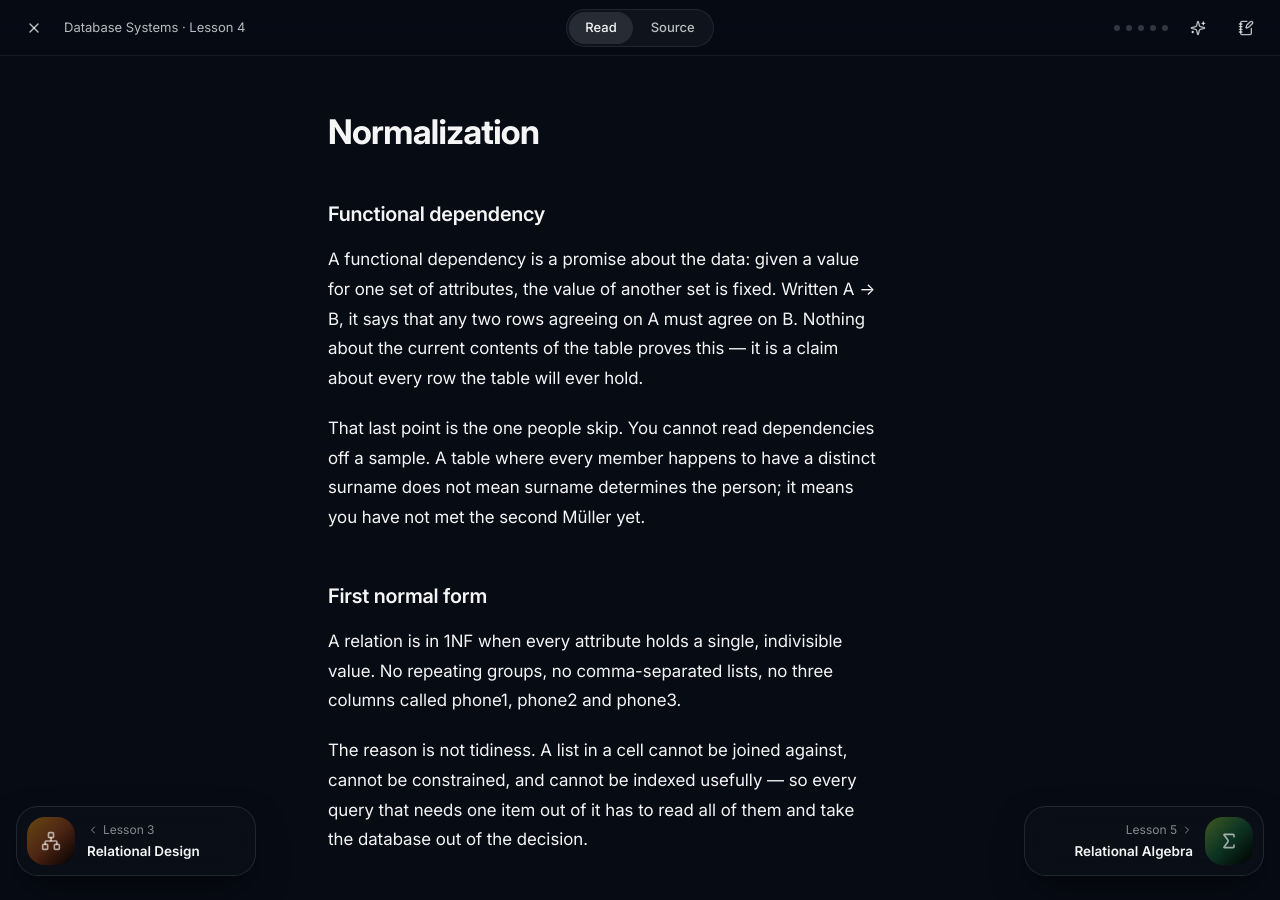
it: a Lesson with both views can be read either way › turns the page from the screen that owns the number
Check: the header is shown, box [0, 0, 1279, 56]
Click the tab "Source".
click(673, 28)  # box [635, 12, 711, 44]
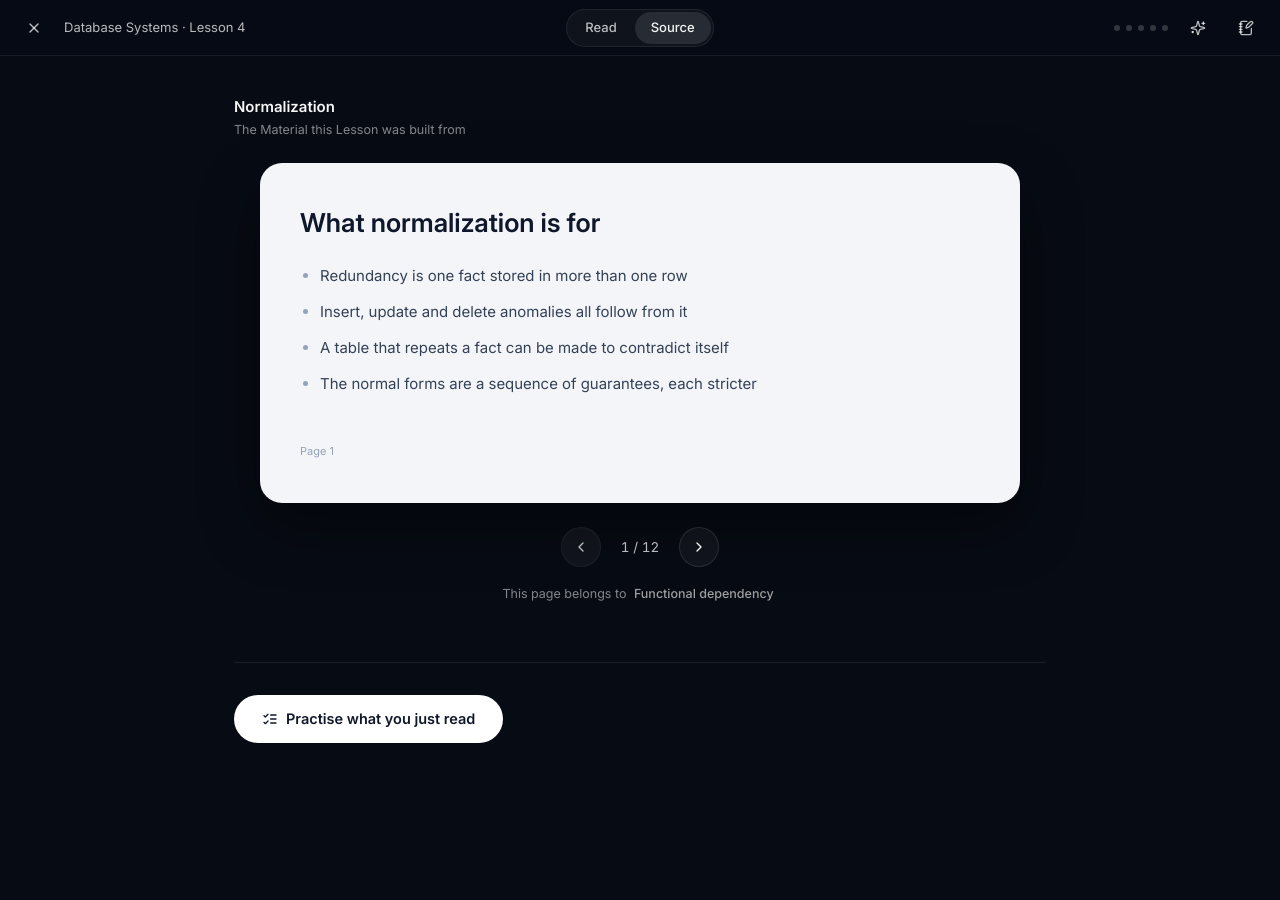
Click the button named "Next page".
click(699, 547)  # box [679, 527, 719, 567]
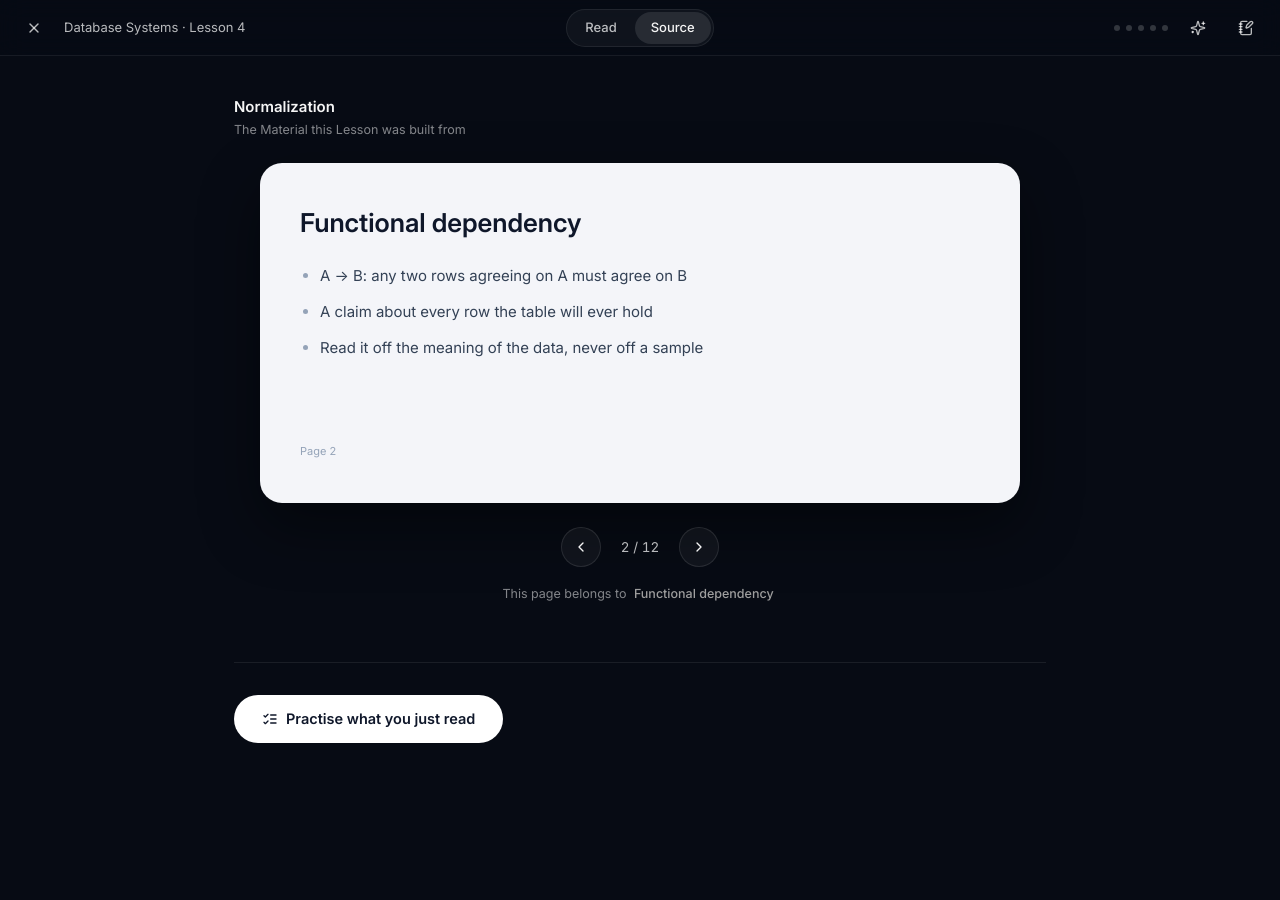
Check: the text "2 / 12" is shown, box [621, 537, 659, 557]
